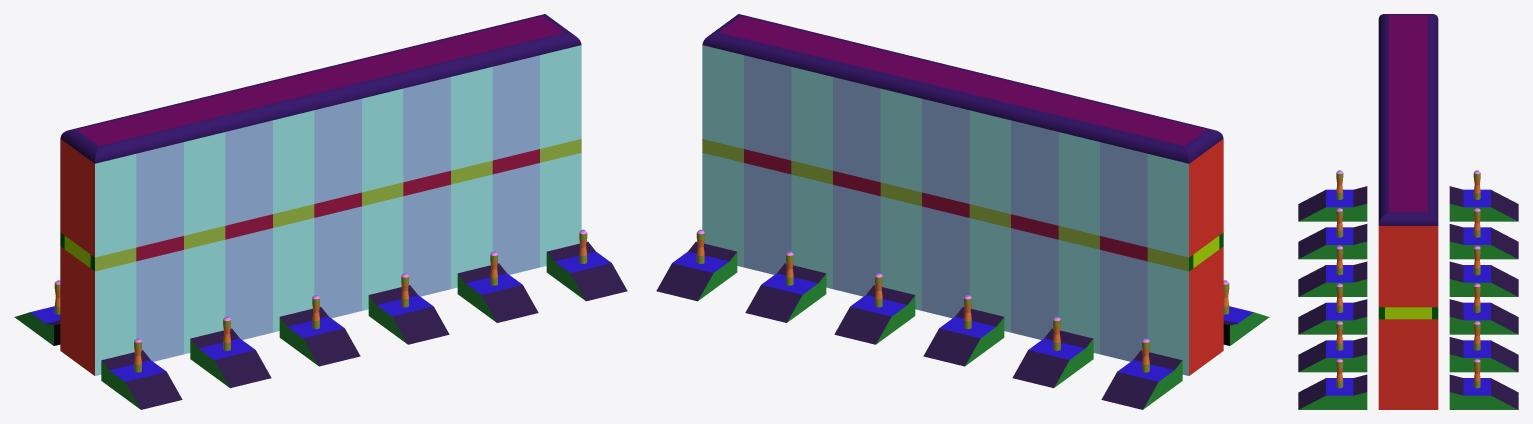
The model's file is WallColor.fbx.
3 renders of one model, left to right at view 1: azimuth 30°, elevation 25°; view 2: azimuth 150°, elevation 25°; view 3: azimuth 270°, elevation 25°, orthographic. The views are drawn at different scales.
Visible parts, largest first — view 1: Model; view 2: Model; view 3: Model.
Boxes of the visible parts, box(x1,y1,x2,y2) form: Model: box(14, 14, 627, 409); Model: box(656, 14, 1269, 409); Model: box(1298, 14, 1518, 409).
Bounding box in the file's own units: 503 × 220 × 227.
